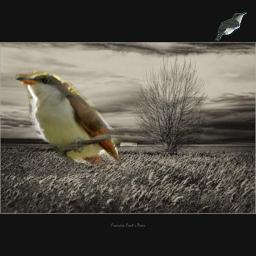Cuckoo: (11, 64, 137, 168), (215, 12, 247, 41)
